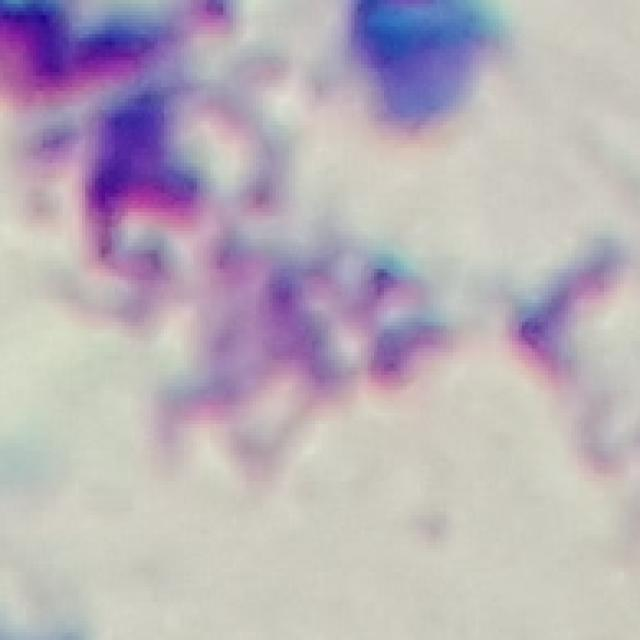non-sperm: (86, 87, 454, 394)
